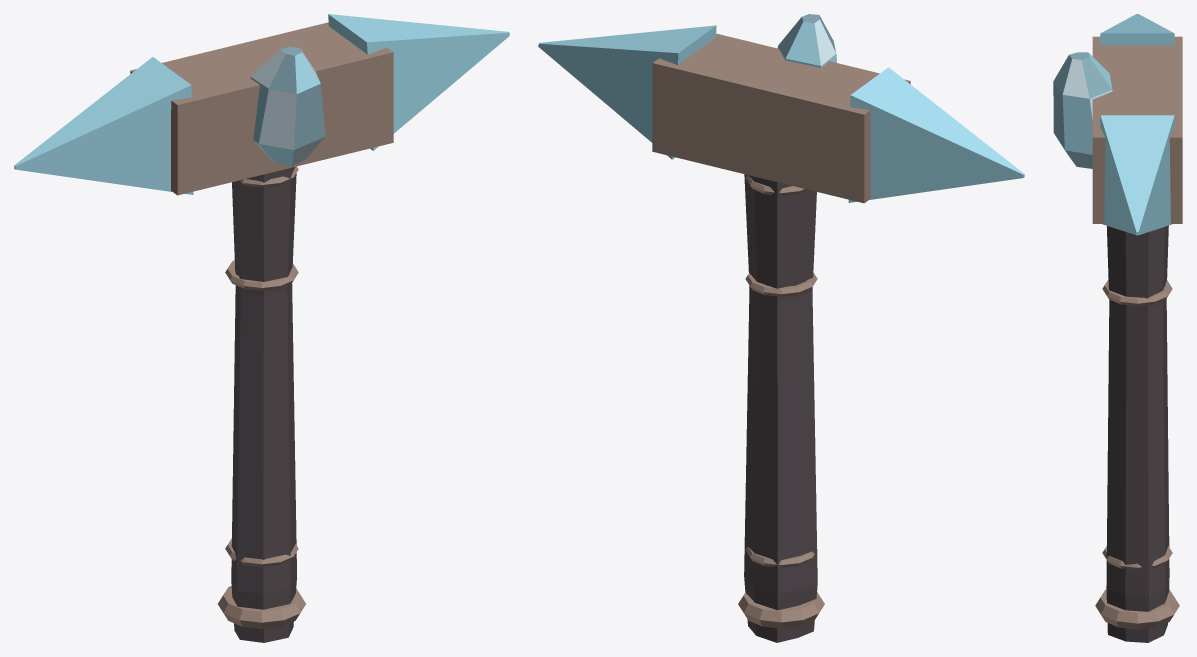
Rendered from BH_PICK_P20_Picareta_Glacial_Abissal_V01.glb.
3 views of the same model, side by side, from view 1: azimuth 30°, elevation 25°; view 2: azimuth 150°, elevation 25°; view 3: azimuth 270°, elevation 25° (orthographic). The views are drawn at different scales.
Visible parts, largest first — view 1: Handle | shaped shaft.001, Head | main crossbar.001, Head | mining tooth L.001, Head | mining tooth R.001, Head | inset mineral.001, Handle | pommel.001, Handle | binding 3.001; view 2: Handle | shaped shaft.001, Head | main crossbar.001, Head | mining tooth L.001, Head | mining tooth R.001, Head | inset mineral.001, Handle | pommel.001, Handle | binding 3.001; view 3: Handle | shaped shaft.001, Head | main crossbar.001, Head | mining tooth R.001, Head | inset mineral.001, Head | mining tooth L.001, Handle | pommel.001, Handle | binding 3.001, Handle | binding 1.001.
Part boxes in pixels (box(x1,y1,x2,y2)): Handle | shaped shaft.001: box(231, 167, 296, 642); Head | main crossbar.001: box(130, 22, 393, 195); Head | mining tooth L.001: box(14, 57, 193, 194); Head | mining tooth R.001: box(328, 14, 509, 150); Head | inset mineral.001: box(250, 46, 325, 166); Handle | pommel.001: box(218, 586, 305, 628); Handle | binding 3.001: box(225, 260, 298, 290); Handle | shaped shaft.001: box(744, 174, 817, 642); Head | main crossbar.001: box(652, 33, 910, 203); Head | mining tooth L.001: box(848, 67, 1024, 202); Head | mining tooth R.001: box(538, 25, 716, 159); Head | inset mineral.001: box(777, 14, 836, 67); Handle | pommel.001: box(738, 592, 824, 628); Handle | binding 3.001: box(745, 272, 817, 296); Handle | shaped shaft.001: box(1106, 225, 1169, 642); Head | main crossbar.001: box(1092, 36, 1182, 223); Head | mining tooth R.001: box(1100, 115, 1174, 235); Head | inset mineral.001: box(1053, 52, 1112, 168); Head | mining tooth L.001: box(1100, 14, 1174, 45); Handle | pommel.001: box(1095, 589, 1179, 629); Handle | binding 3.001: box(1102, 279, 1172, 306); Handle | binding 1.001: box(1102, 546, 1172, 569).
Bounding box in the file's own units: 2.06 × 2.39 × 0.4876.
